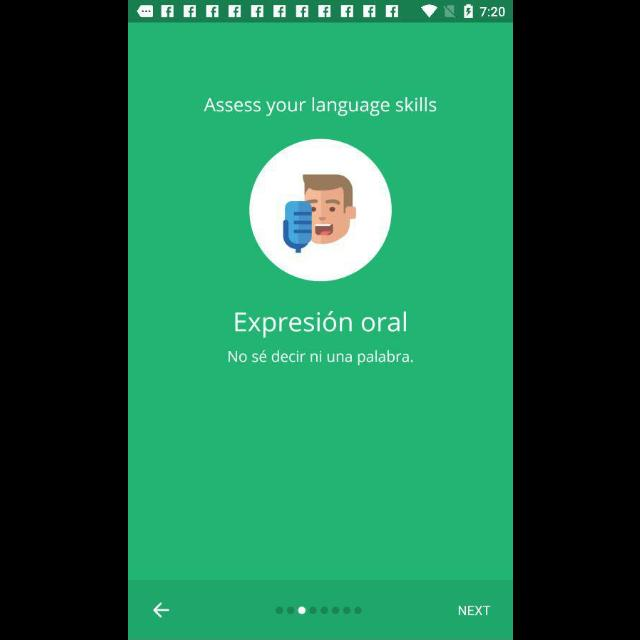icon: (153, 602, 170, 618)
image: (248, 138, 392, 282)
pageindicator: (274, 606, 362, 614)
text: (234, 311, 406, 339), (203, 97, 437, 117), (227, 350, 413, 366), (457, 606, 491, 616)
uppertaskbar: (128, 1, 512, 23)
